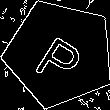P_NE: (30, 22, 89, 85)
